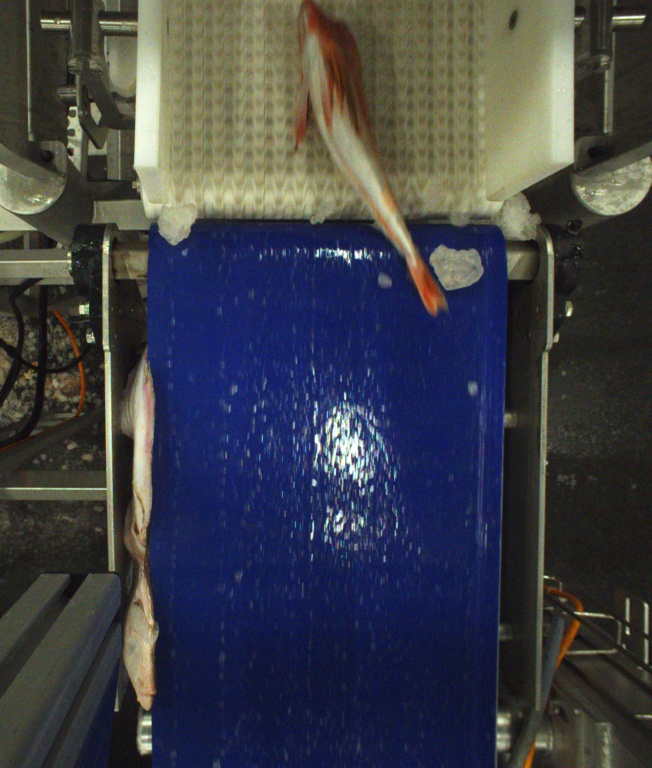GUU: (283, 0, 449, 313)
